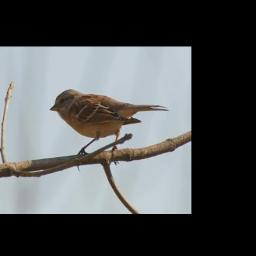Sparrow: (48, 88, 170, 171)
